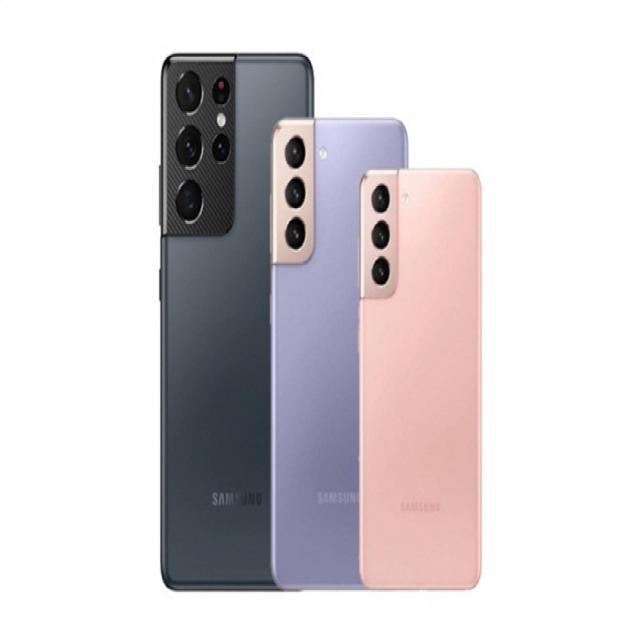phone: (154, 49, 318, 596), (270, 108, 411, 602), (358, 164, 489, 596)
